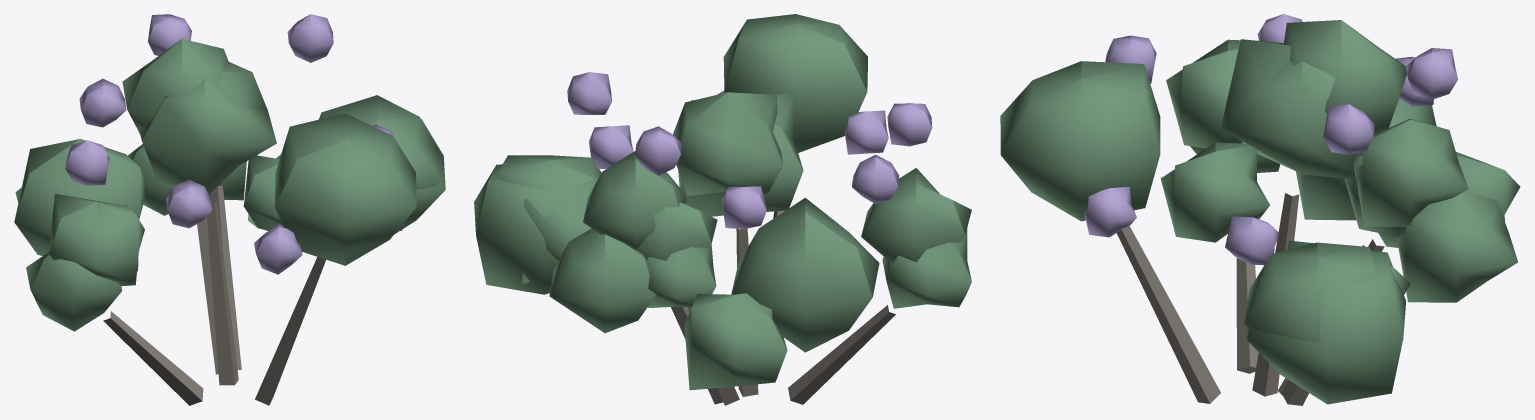
File: rhododendron.glb
The picture shows the model from 3 angles, left to right: view 1: azimuth 30°, elevation 25°; view 2: azimuth 150°, elevation 25°; view 3: azimuth 270°, elevation 25°; orthographic projection. The views are drawn at different scales.
Visible parts, largest first — view 1: rhododendron-bush; view 2: rhododendron-bush; view 3: rhododendron-bush.
Boxes of the visible parts, x1,y1,x2,y2 form: rhododendron-bush: (14,14,445,405); rhododendron-bush: (474,14,971,405); rhododendron-bush: (1000,14,1520,405).
Bounding box in the file's own units: 3.27 × 2.28 × 2.89.
